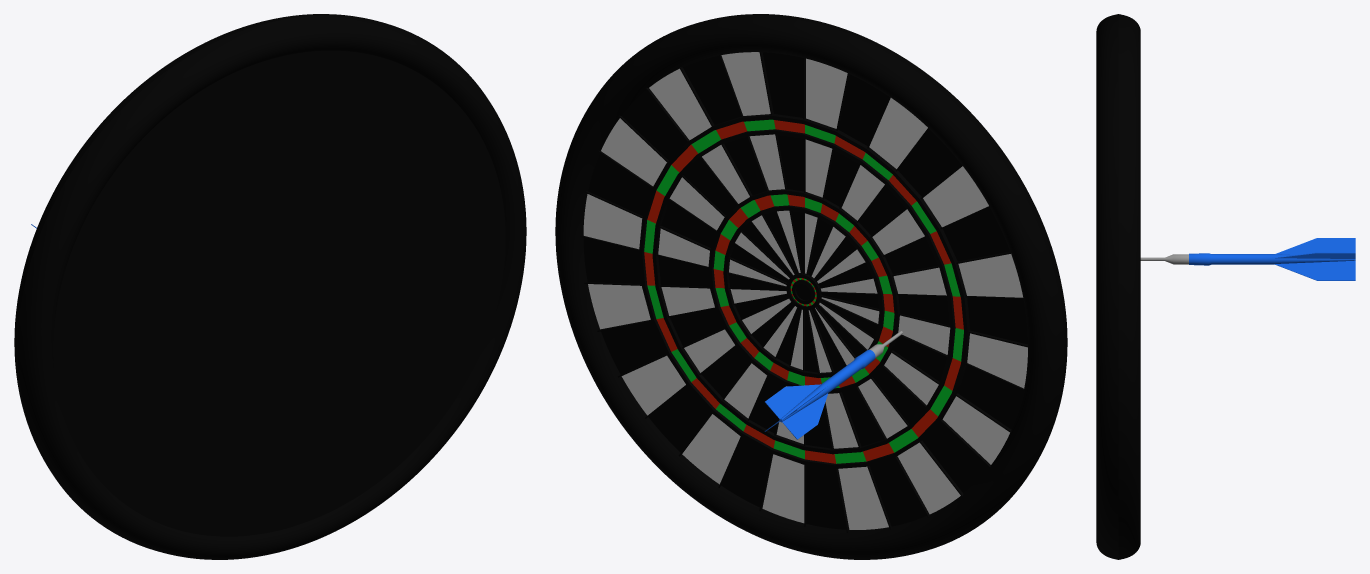
Rendered from dartboard.fbx.
3 renders of one model, left to right at view 1: azimuth 30°, elevation 25°; view 2: azimuth 150°, elevation 25°; view 3: azimuth 270°, elevation 25°, orthographic. The views are drawn at different scales.
Visible parts, largest first — view 1: Torus; view 2: Torus; view 3: Torus.
Boxes of the visible parts, box(x1,y1,x2,y2) form: Torus: box(14, 14, 526, 559); Torus: box(555, 14, 1067, 559); Torus: box(1096, 14, 1355, 559).
Size of the model in its own units: 2191 by 2191 by 1040.
